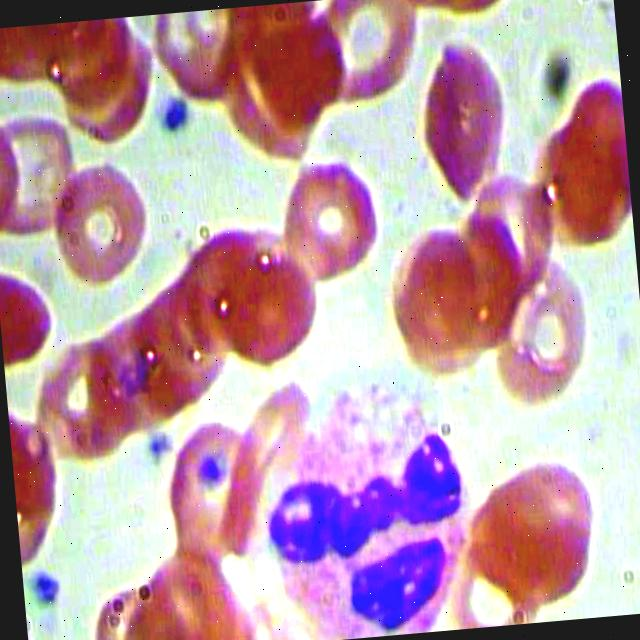Platelets: (152, 89, 194, 140), (24, 564, 66, 614), (133, 422, 175, 472)
RBC: (478, 230, 600, 416), (398, 29, 520, 214), (488, 428, 610, 613), (442, 452, 563, 630), (39, 144, 168, 301), (264, 141, 392, 298), (527, 64, 634, 246), (160, 404, 262, 584), (210, 228, 324, 384), (381, 223, 495, 378), (100, 290, 202, 442), (166, 221, 268, 372), (134, 260, 236, 411), (27, 324, 128, 476), (36, 28, 160, 146), (302, 0, 434, 108), (0, 97, 91, 252), (136, 4, 274, 100)
WBC: (239, 372, 477, 640)
